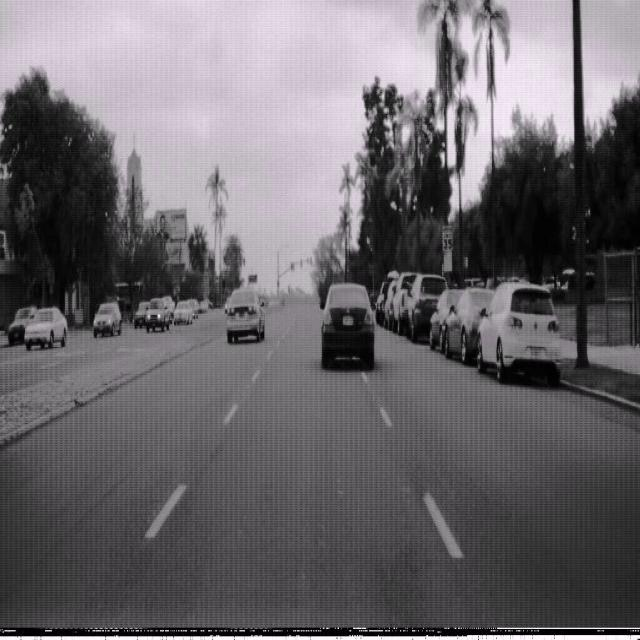speedLimit35: (440, 222, 454, 254)
